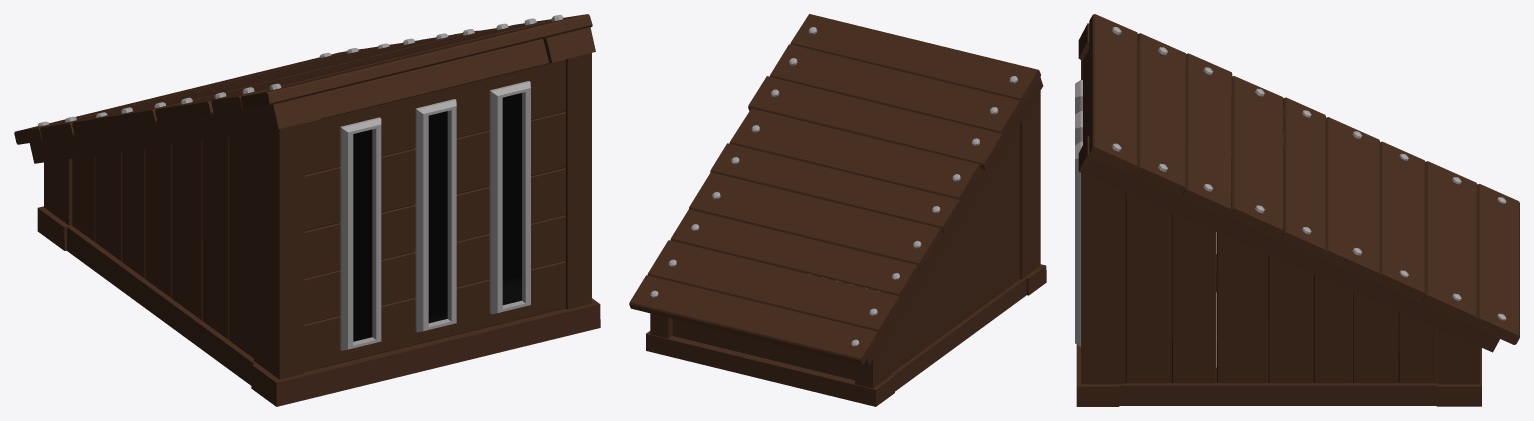
Rendered from SawBladeThrower_2.fbx.
The picture shows the model from 3 angles, left to right: view 1: azimuth 30°, elevation 25°; view 2: azimuth 150°, elevation 25°; view 3: azimuth 270°, elevation 25°; orthographic projection. The views are drawn at different scales.
Parts seen in each view (by area): view 1: SawBladeThrower_2; view 2: SawBladeThrower_2; view 3: SawBladeThrower_2.
Boxes of the visible parts, left/top/right/bottom form: SawBladeThrower_2: left=14, top=14, right=600, bottom=406; SawBladeThrower_2: left=629, top=14, right=1046, bottom=406; SawBladeThrower_2: left=1075, top=14, right=1519, bottom=406.
Bounding box in the file's own units: 89.44 × 78.88 × 123.
